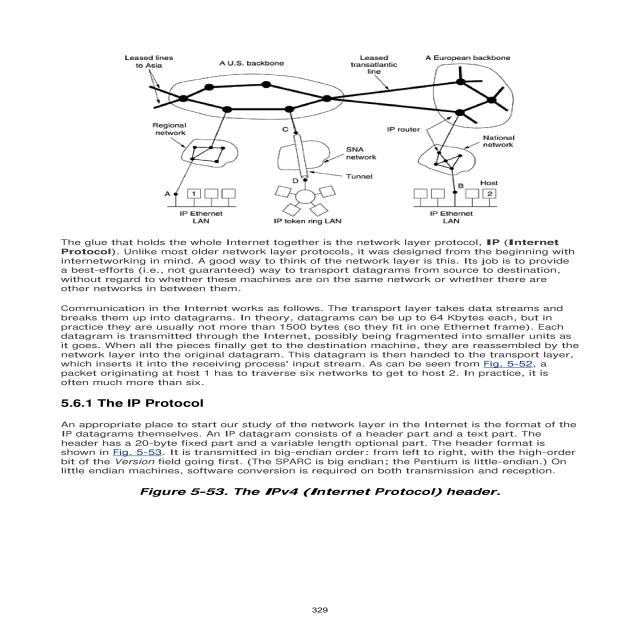diagram: (84, 34, 585, 233)
